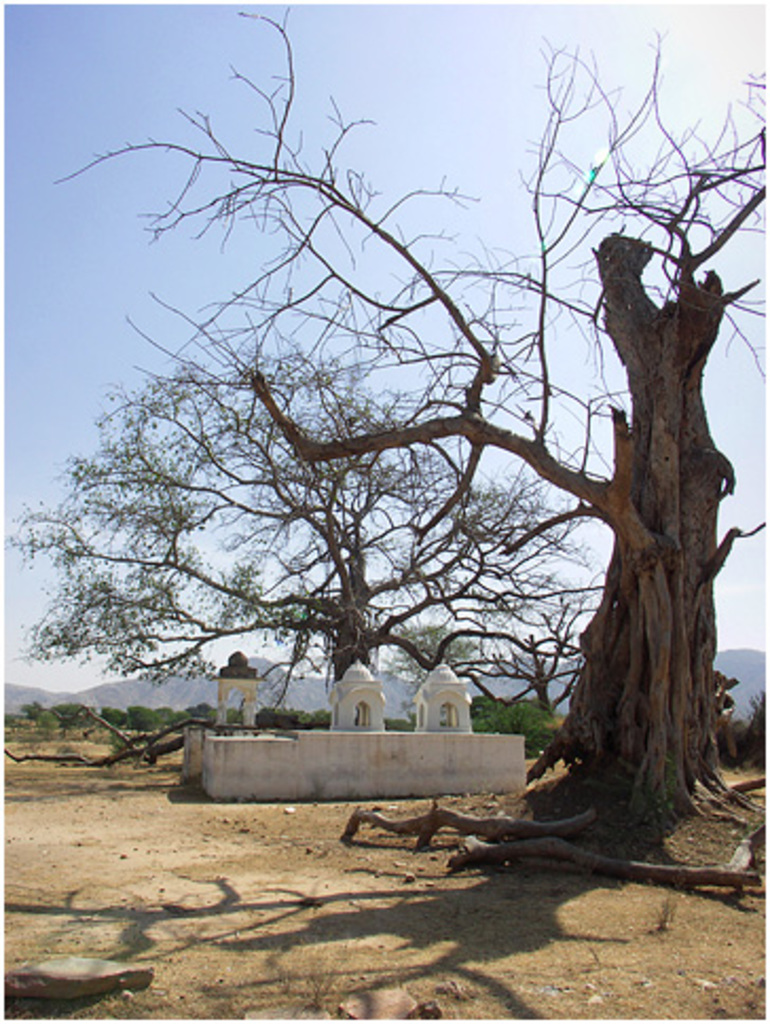Tree: (4, 2, 768, 826)
